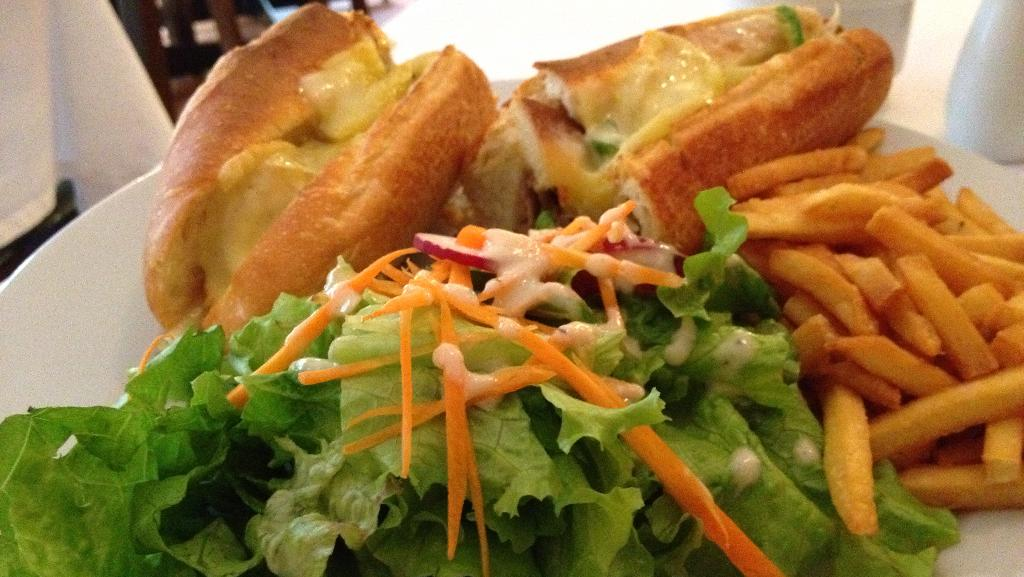French fries: (715, 119, 1023, 547)
